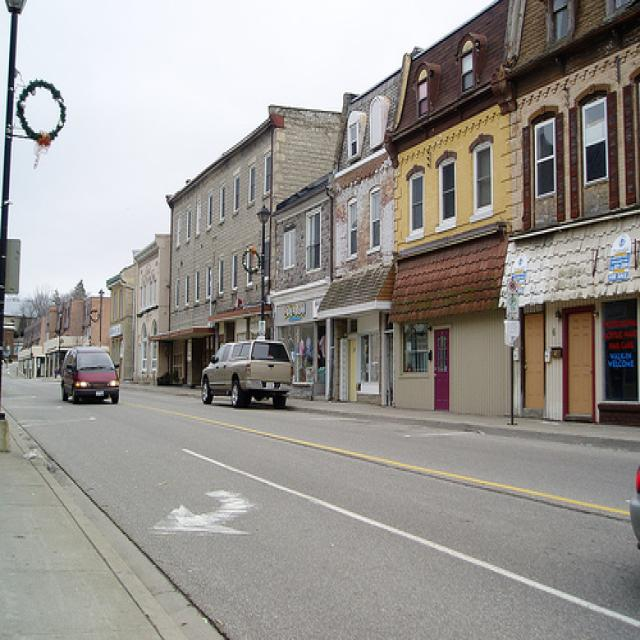car: (202, 339, 295, 409), (60, 344, 120, 406)
